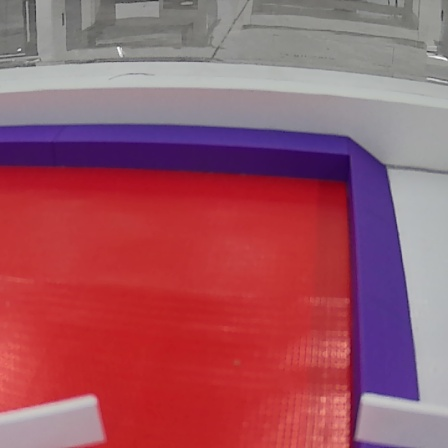red_aim: (2, 124, 421, 448)
